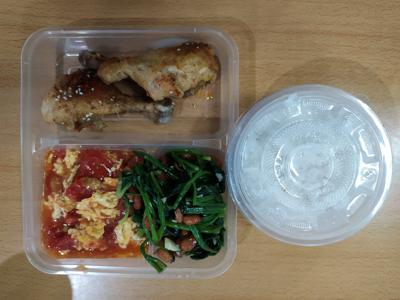bc: (137, 146, 232, 267)
jdxhs: (37, 147, 143, 261)
jt: (38, 42, 225, 137)
